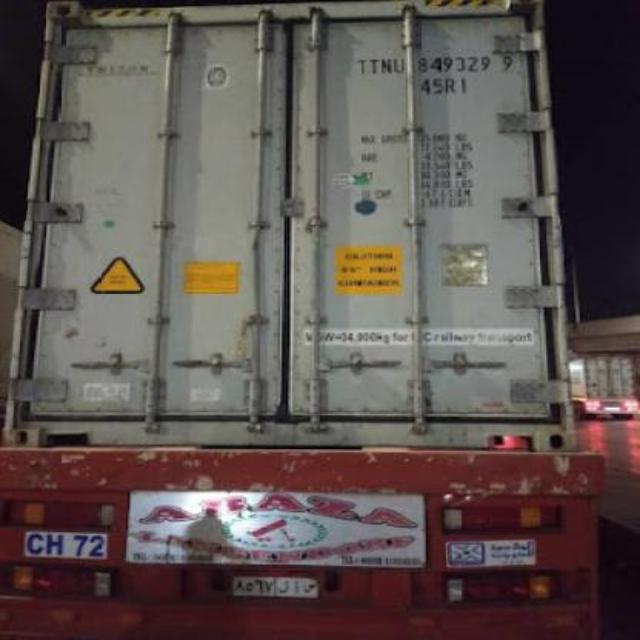2: (466, 54, 479, 76)
3: (454, 54, 468, 74)
4: (432, 54, 442, 74)
8: (416, 55, 428, 75)
9: (478, 56, 494, 74), (442, 56, 454, 72), (502, 57, 514, 73)
N: (381, 59, 394, 77)
T: (354, 58, 368, 78), (368, 57, 380, 75)
U: (392, 57, 406, 77)
